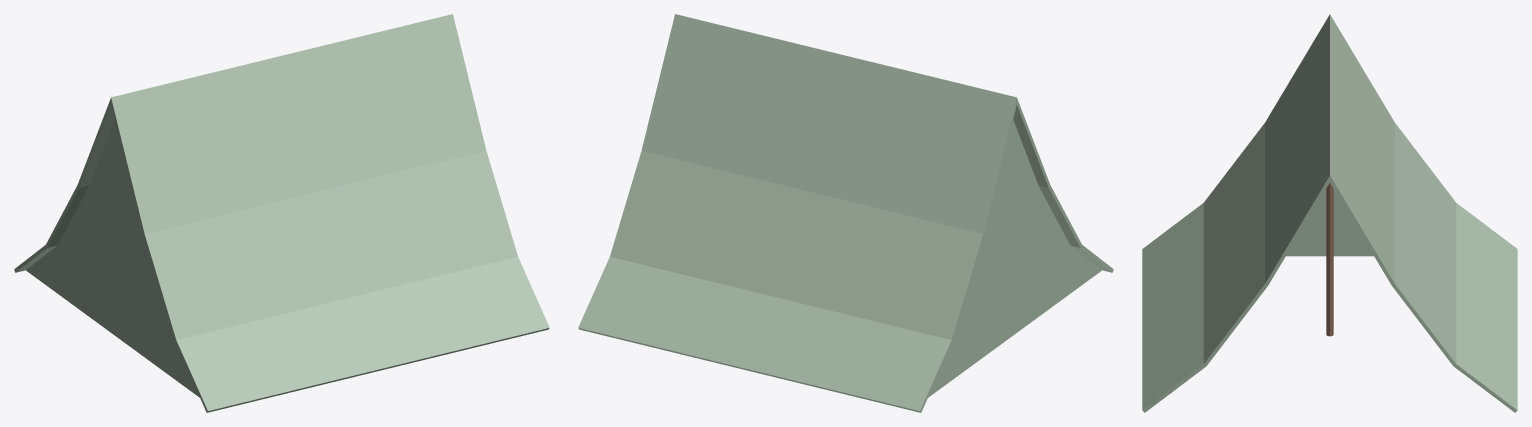
The model's file is smallTent.fbx.
The picture shows the model from 3 angles, left to right: view 1: azimuth 30°, elevation 25°; view 2: azimuth 150°, elevation 25°; view 3: azimuth 270°, elevation 25°; orthographic projection. The views are drawn at different scales.
Visible parts, largest first — view 1: tentBody; view 2: tentBody; view 3: tentBody, Pipe.
Part boxes in pixels (x1,y1,x2,y2): tentBody: [14, 14, 549, 412]; tentBody: [578, 14, 1113, 412]; tentBody: [1142, 14, 1517, 412]; Pipe: [1326, 183, 1333, 336].
Size of the model in its own units: 1.36 by 0.937 by 1.34.
